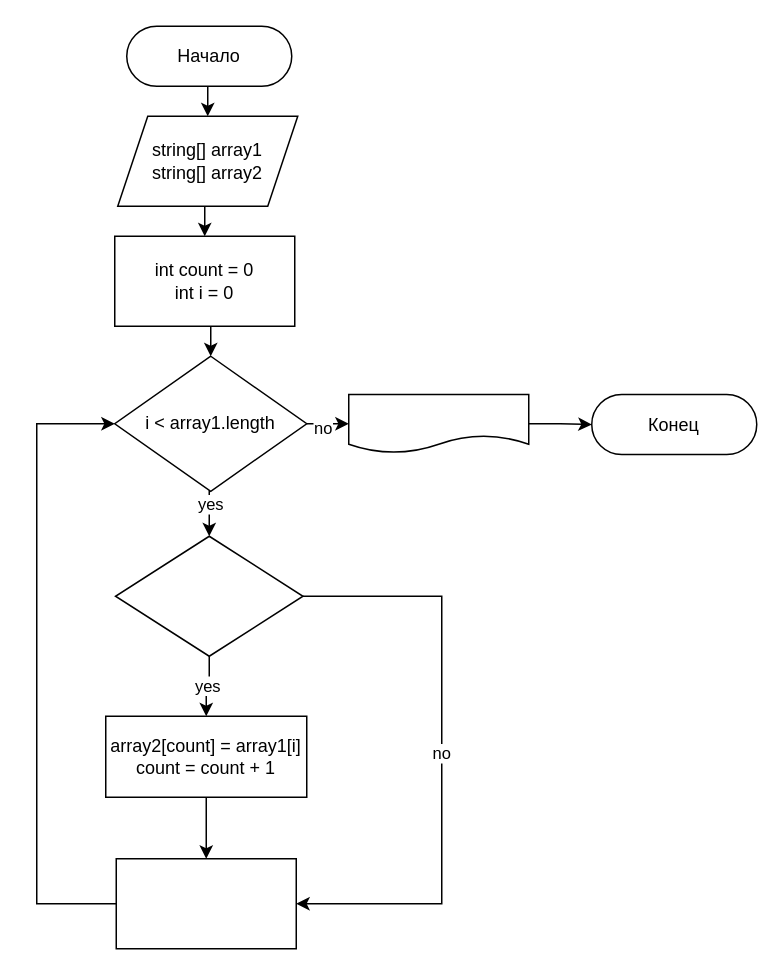
The diagram is 783 pixels wide and 975 high, and some of its shapes have lost their labels. The box of each missing label's shape, as (x1, y1, x2, y2) in pixels:
array1[i] <= 3: (114, 535, 303, 656)
i = i + 1: (115, 857, 296, 949)
string[] array2: (347, 393, 529, 453)
